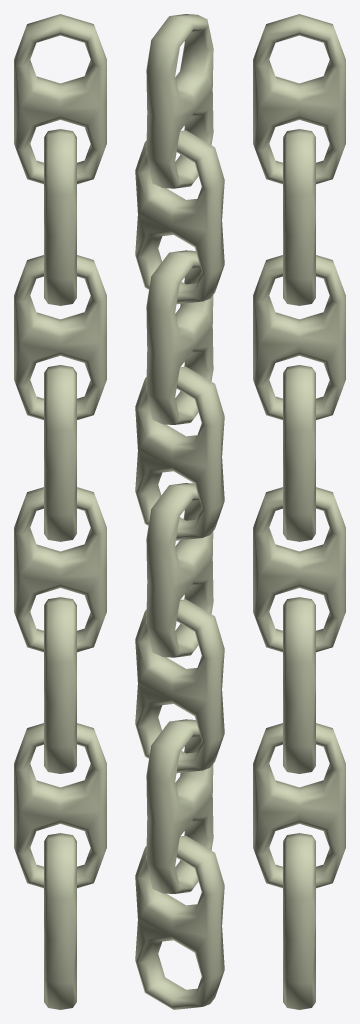
Rendered from reaver.obj.
The picture shows the model from 3 angles, left to right: view 1: azimuth 90°, elevation 25°; view 2: azimuth 150°, elevation 25°; view 3: azimuth 270°, elevation 25°; orthographic projection.
Parts seen in each view (by area): view 1: Cube1, Cube1_copy7, Cube1_copy5, Cube1_copy3, Cube1_copy8, Cube1_copy4, Cube1_copy2, Cube1_copy6; view 2: Cube1_copy8, Cube1, Cube1_copy6, Cube1_copy2, Cube1_copy4, Cube1_copy7, Cube1_copy3, Cube1_copy5; view 3: Cube1, Cube1_copy7, Cube1_copy5, Cube1_copy3, Cube1_copy8, Cube1_copy4, Cube1_copy2, Cube1_copy6.
Boxes of the visible parts, <box> form: Cube1: <box>14,14,106,184</box>; Cube1_copy7: <box>14,723,106,888</box>; Cube1_copy5: <box>14,487,106,652</box>; Cube1_copy3: <box>14,255,106,419</box>; Cube1_copy8: <box>44,833,76,1009</box>; Cube1_copy4: <box>44,365,76,541</box>; Cube1_copy2: <box>44,129,76,305</box>; Cube1_copy6: <box>44,597,76,773</box>; Cube1_copy8: <box>135,835,224,1009</box>; Cube1: <box>146,14,213,188</box>; Cube1_copy6: <box>135,599,224,773</box>; Cube1_copy2: <box>135,130,224,304</box>; Cube1_copy4: <box>135,366,224,540</box>; Cube1_copy7: <box>146,719,213,893</box>; Cube1_copy3: <box>146,250,213,424</box>; Cube1_copy5: <box>146,483,213,657</box>; Cube1: <box>253,14,345,184</box>; Cube1_copy7: <box>253,723,345,888</box>; Cube1_copy5: <box>253,487,345,652</box>; Cube1_copy3: <box>253,255,345,419</box>; Cube1_copy8: <box>283,833,315,1009</box>; Cube1_copy4: <box>283,365,315,541</box>; Cube1_copy2: <box>283,129,315,305</box>; Cube1_copy6: <box>283,597,315,773</box>.
Size of the model in its own units: 2 by 23.46 by 2.
